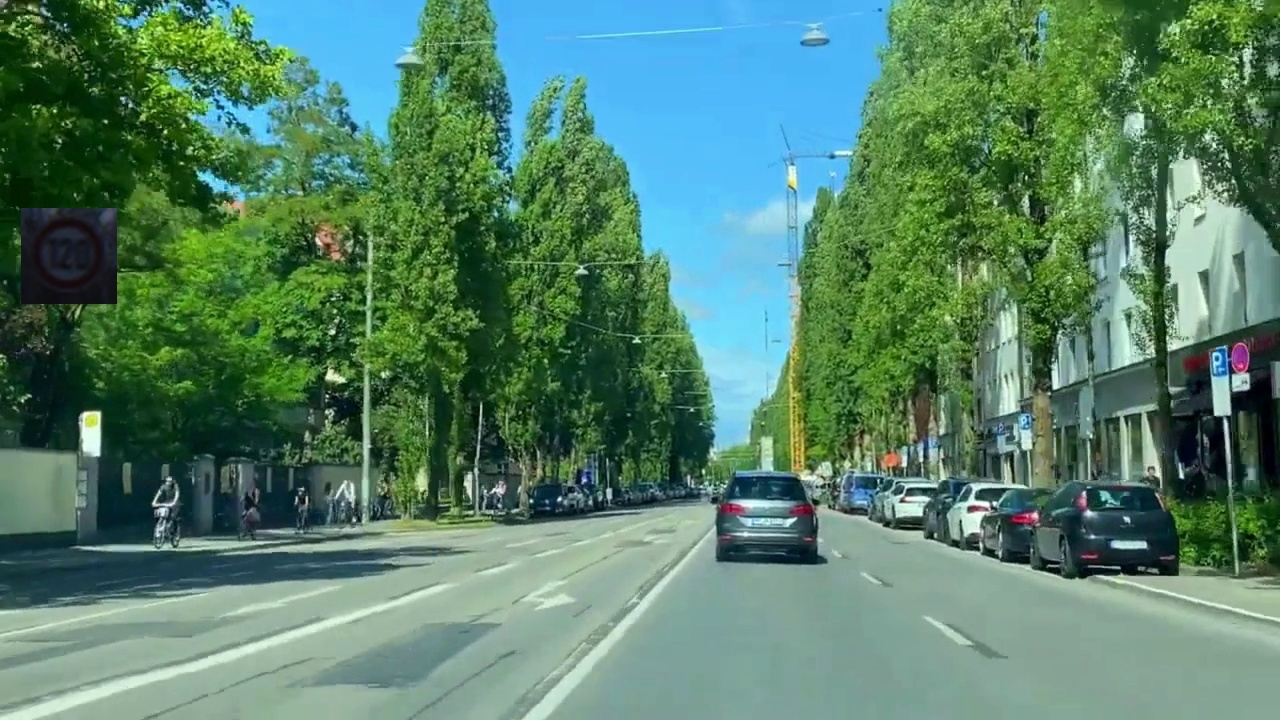Speed 120: (21, 208, 117, 304)
